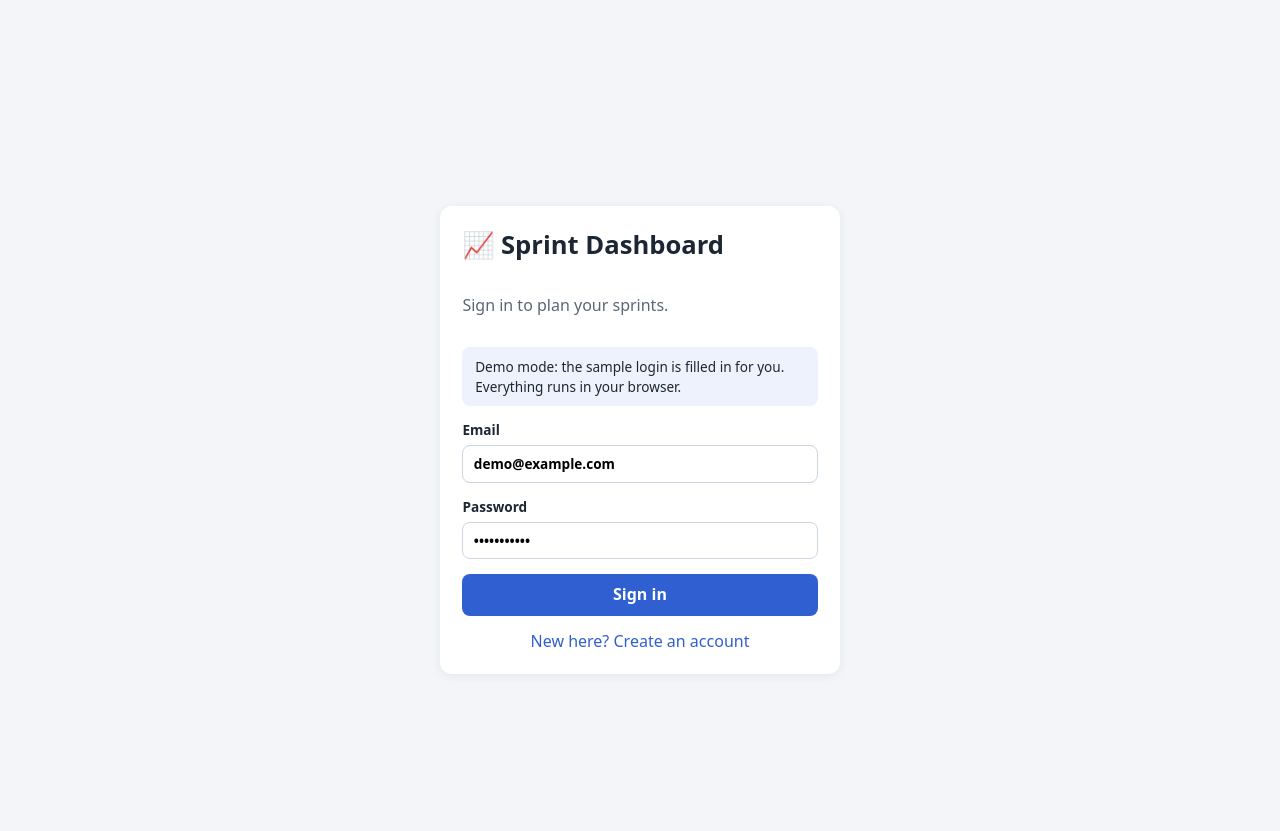
it: Sprint Dashboard › opens the active sprint board with stats and columns
Click the button "Sign in" at (640, 595), box [462, 574, 818, 616]
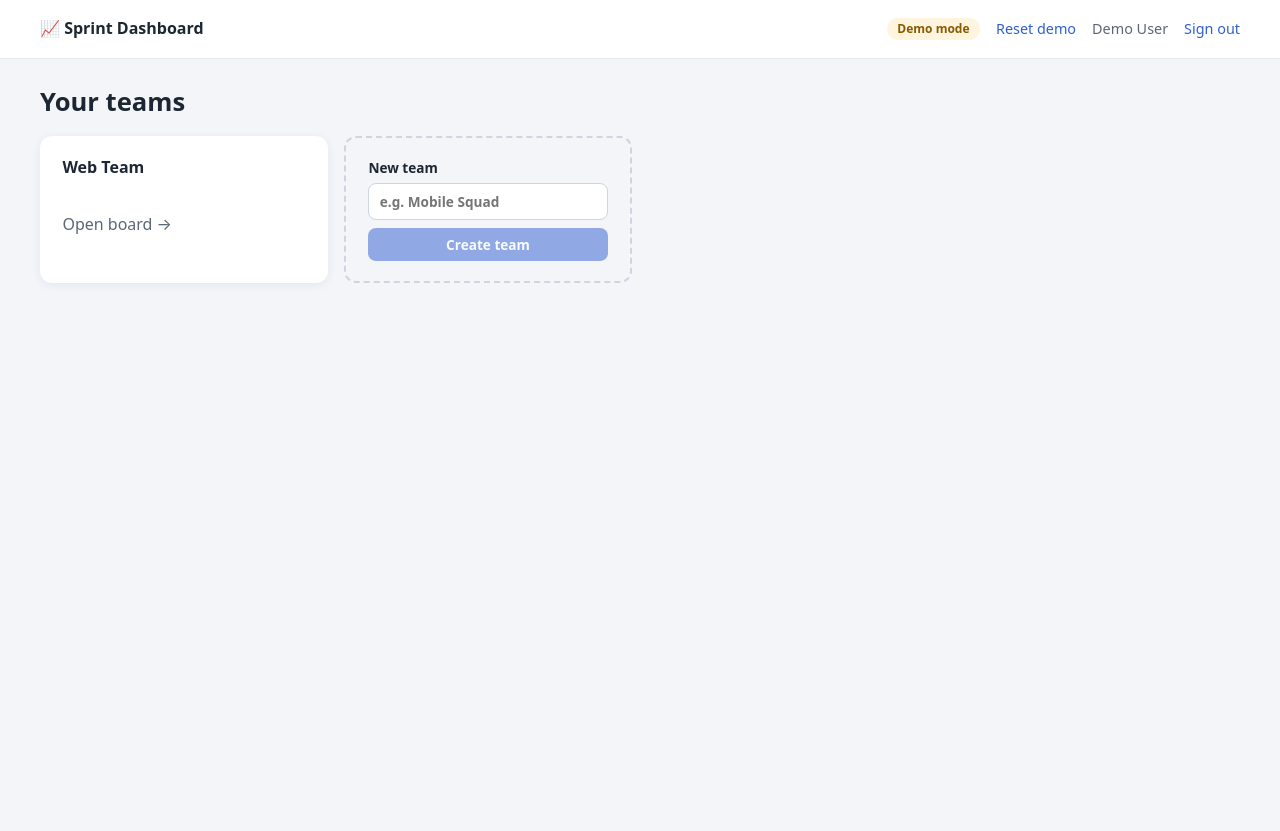
Click the text "Web Team" at (103, 167), box [62, 156, 144, 178]
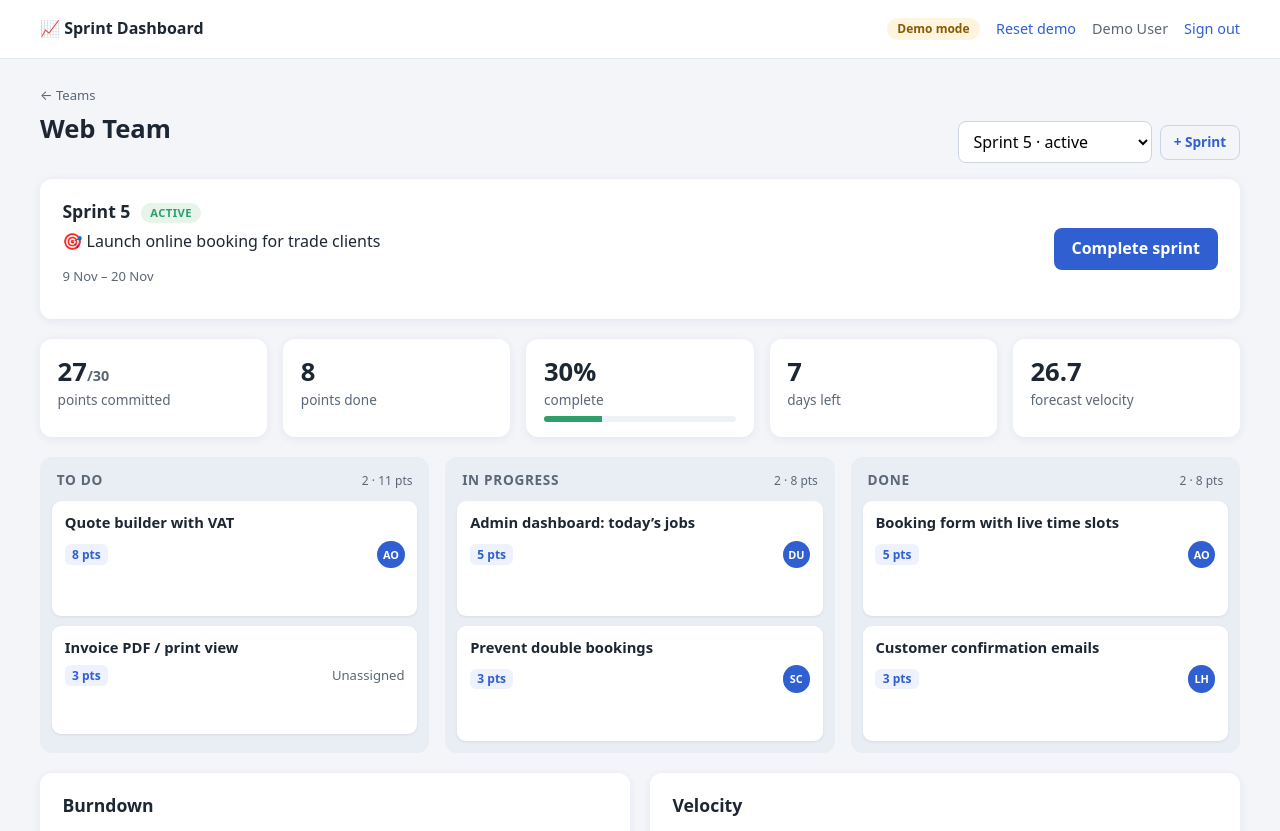
Result: the heading "Sprint 5 active" is shown at [62, 199, 201, 223]
Result: the text "Launch online booking for trade clients" is shown at [86, 230, 380, 252]
Result: the text "Quote builder with VAT" is shown at [65, 512, 234, 532]
